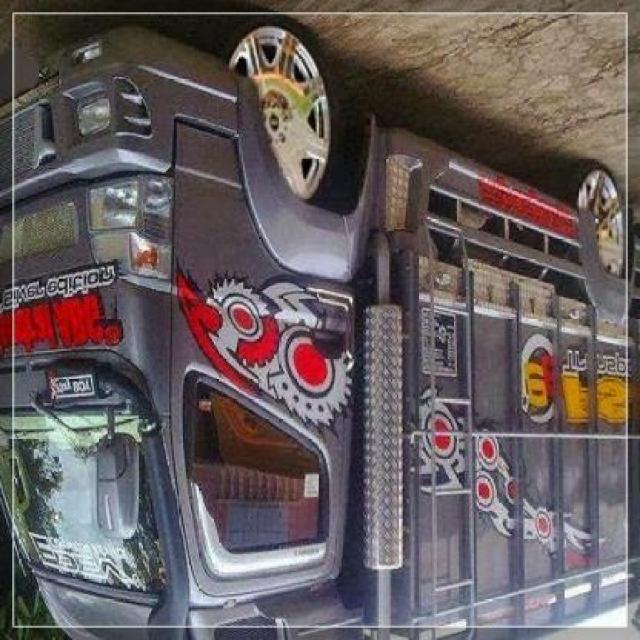truck: (3, 23, 640, 640)
